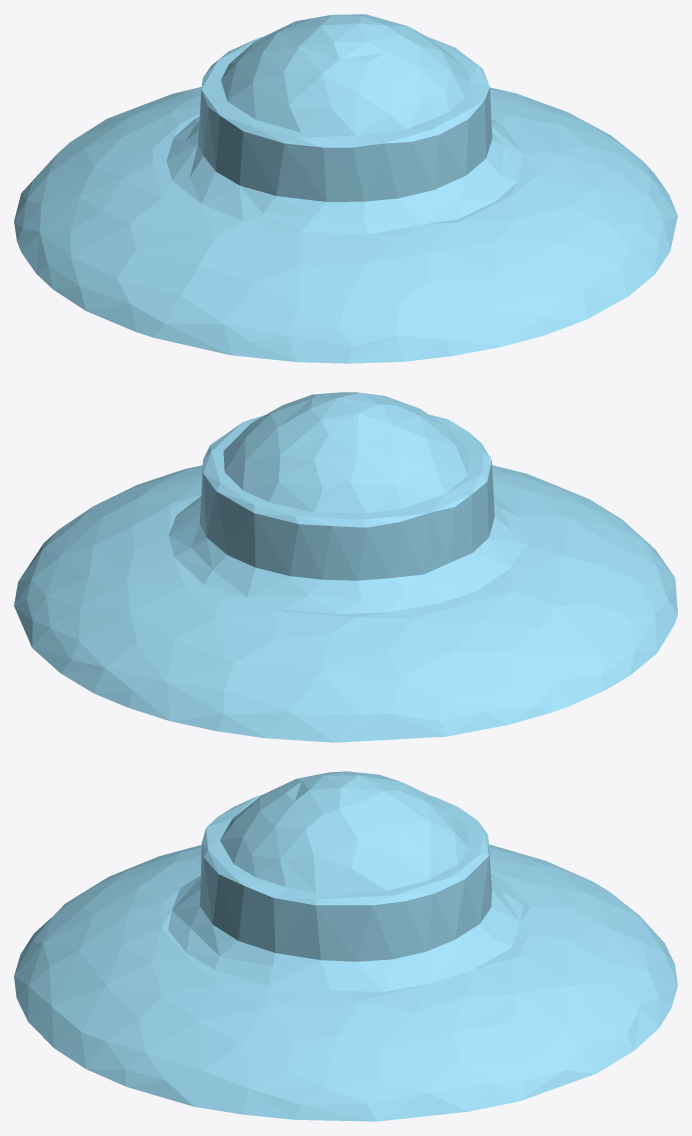
File: ufo.dae
3 renders of one model, top to bottom at view 1: azimuth 30°, elevation 25°; view 2: azimuth 150°, elevation 25°; view 3: azimuth 270°, elevation 25°, orthographic.
Parts seen in each view (by area): view 1: Haneubu+uf; view 2: Haneubu+uf; view 3: Haneubu+uf.
Part boxes in pixels (x1,y1,x2,y2): Haneubu+uf: [14, 14, 677, 363]; Haneubu+uf: [14, 392, 677, 742]; Haneubu+uf: [14, 771, 677, 1121].
Size of the model in its own units: 1.91 by 1.91 by 0.7402.
